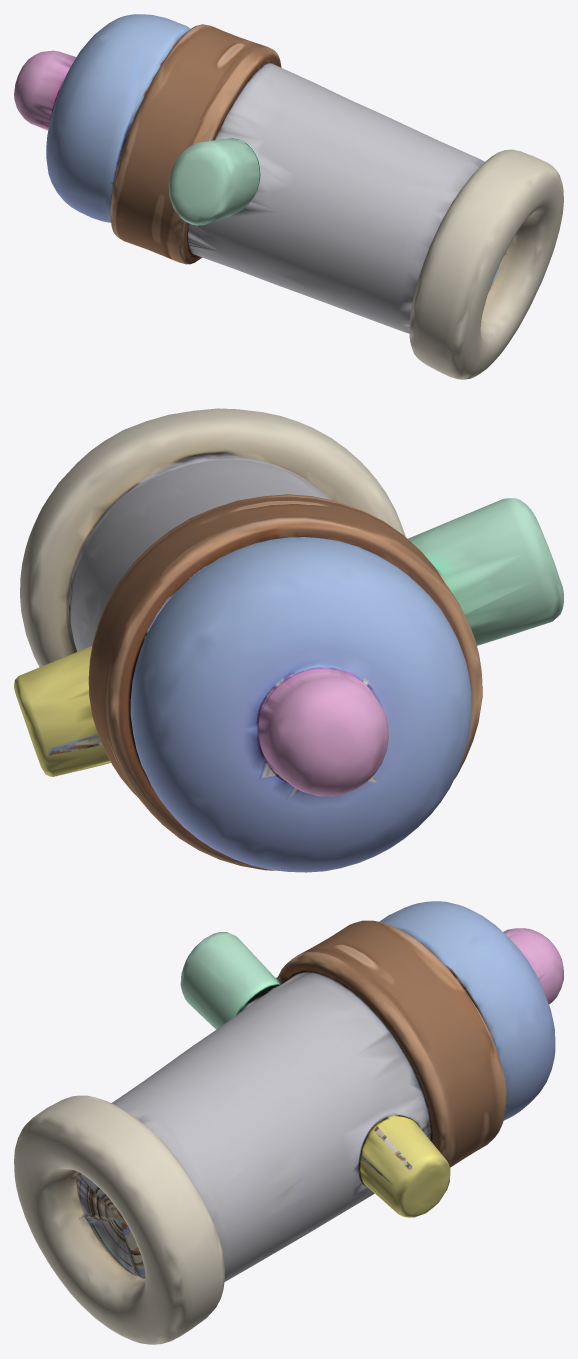
The picture shows the model from 3 angles, top to bottom: view 1: azimuth 30°, elevation 25°; view 2: azimuth 150°, elevation 25°; view 3: azimuth 270°, elevation 25°; orthographic projection. The views are drawn at different scales.
Parts seen in each view (by area): view 1: repaired; view 2: repaired; view 3: repaired.
Part boxes in pixels (<box>): repaired: <box>14,14,563,379</box>; repaired: <box>14,408,563,872</box>; repaired: <box>14,901,563,1344</box>.
Size of the model in its own units: 0.9042 by 0.6339 by 0.9996.
1 material, 1 textured.
